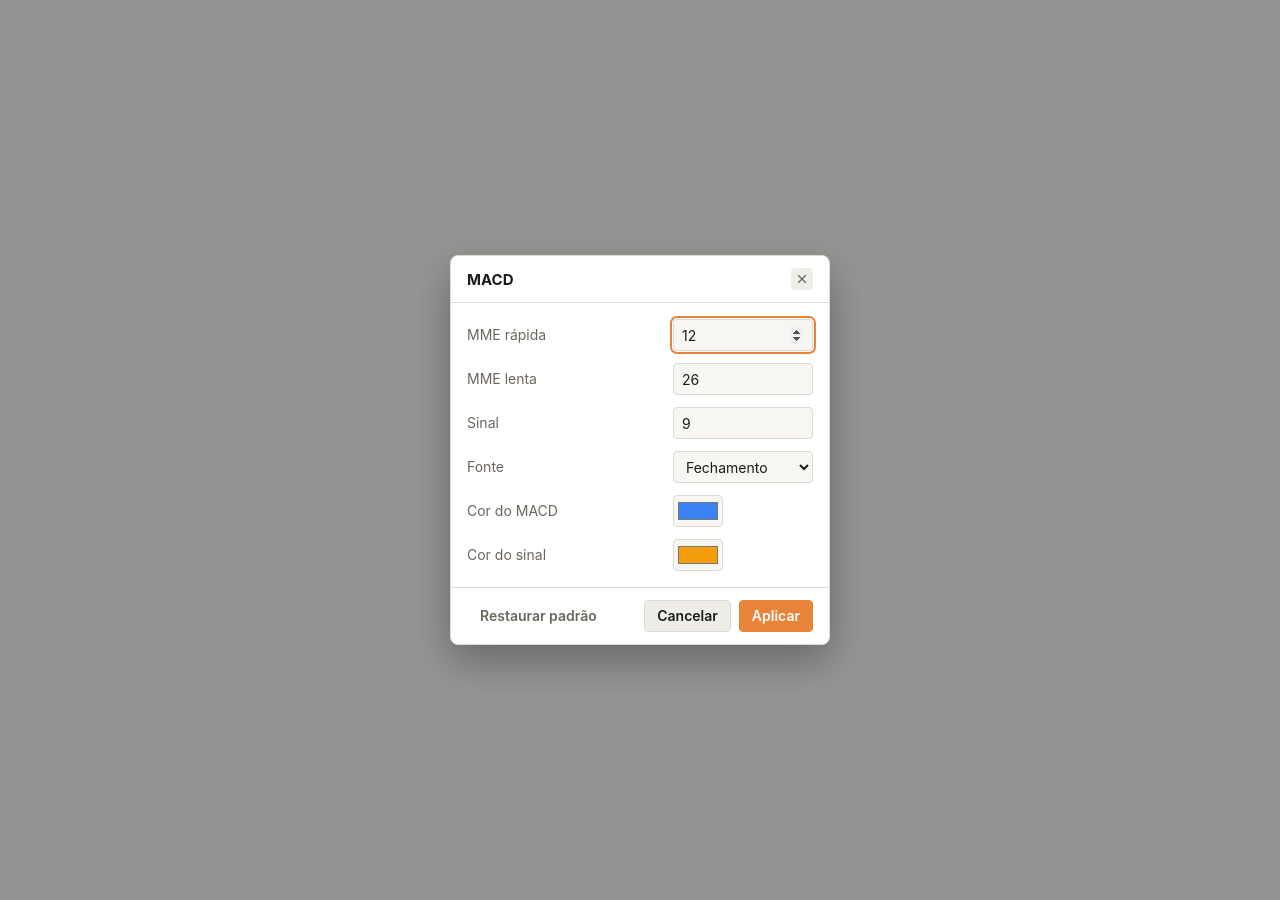
Scenario: IndicatorSettingsDialog › mantém o foco no campo que está sendo editado
Type "0" into the number field labelled "MME lenta" at point(743, 379), box [673,363,813,395]
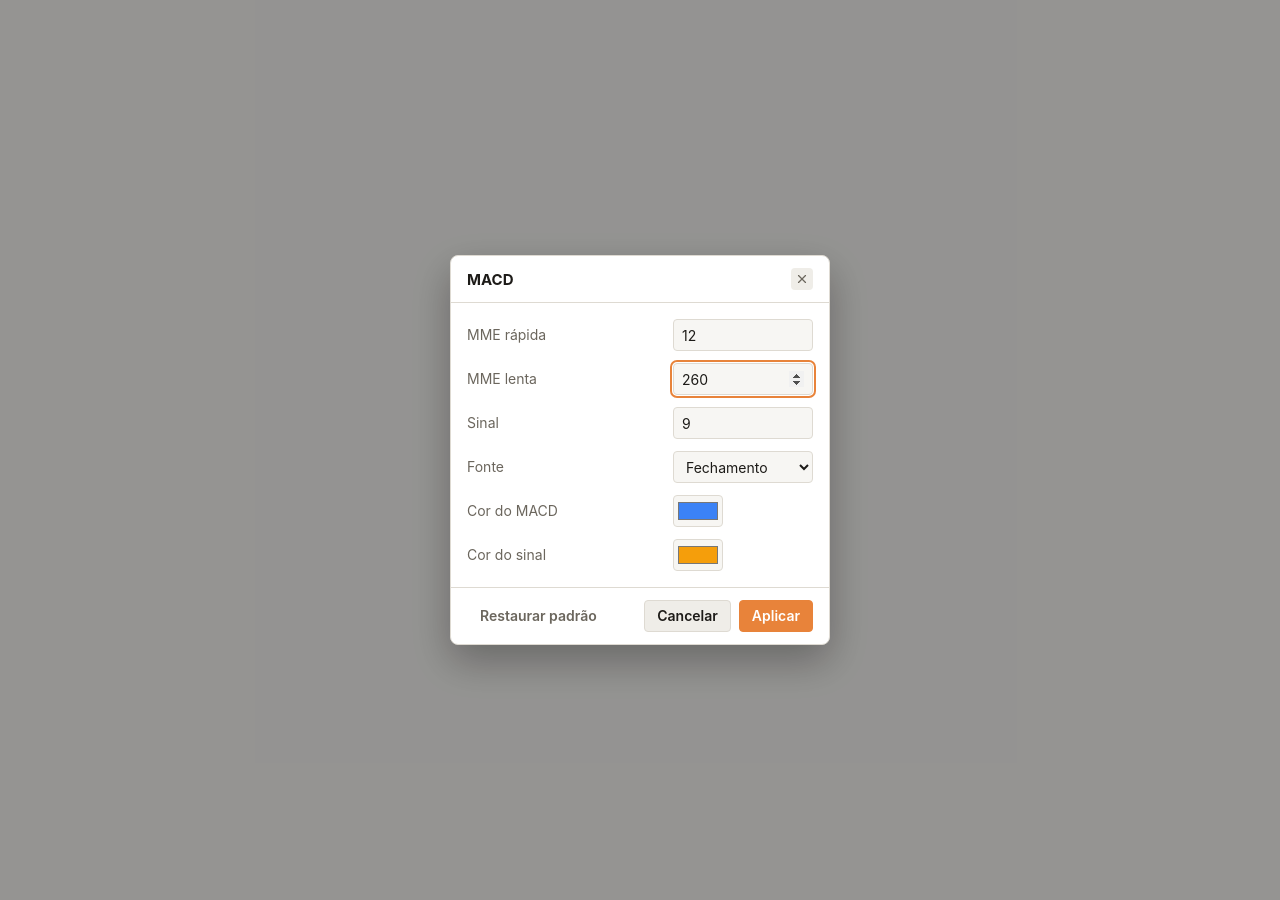
Expected: the number field labelled "MME lenta" holds "260", [673,363,813,395]
